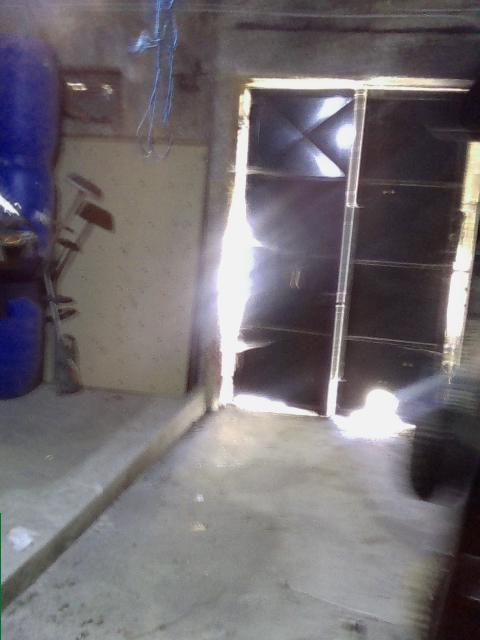closed_door: (213, 73, 479, 414)
